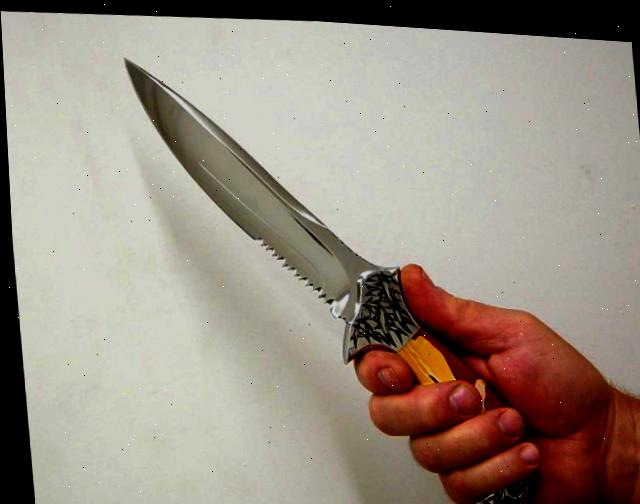pocket-knife: (113, 32, 531, 442)
